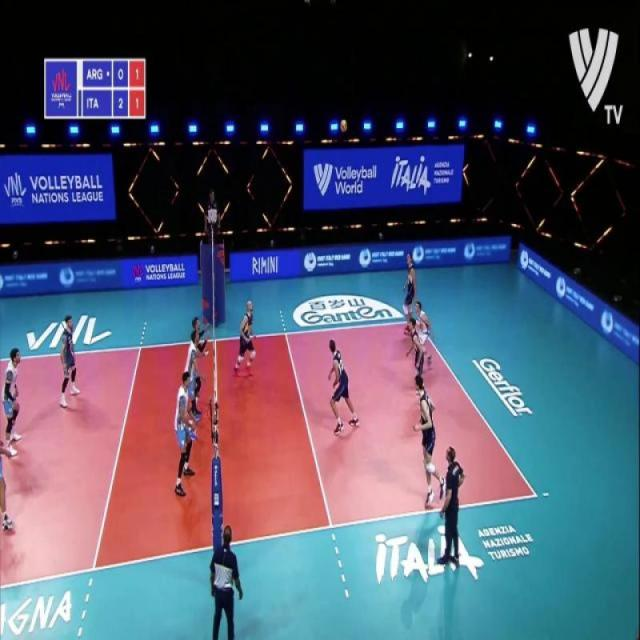volleyball: (340, 120, 348, 132)
